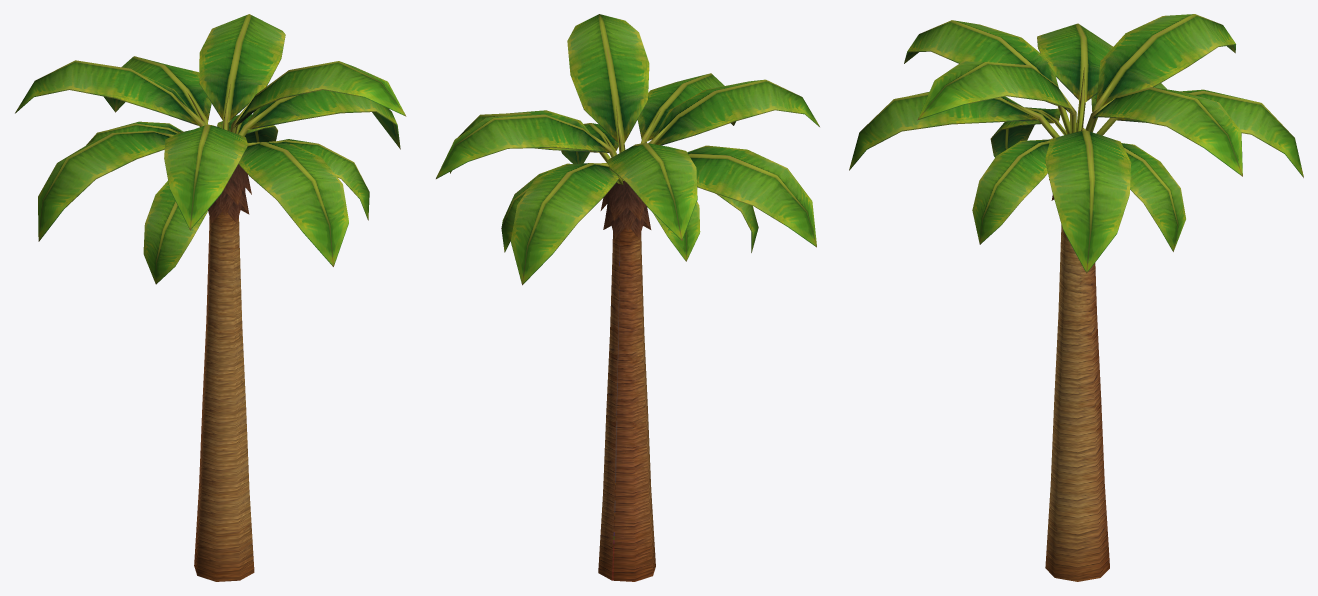
File: PalmTree_01.FBX
The picture shows the model from 3 angles, left to right: view 1: azimuth 30°, elevation 25°; view 2: azimuth 150°, elevation 25°; view 3: azimuth 270°, elevation 25°; orthographic projection. The views are drawn at different scales.
Parts seen in each view (by area): view 1: PalmTree_01; view 2: PalmTree_01; view 3: PalmTree_01.
Part boxes in pixels (x1=…): PalmTree_01: x1=15, y1=14, x2=406, y2=581; PalmTree_01: x1=436, y1=14, x2=819, y2=581; PalmTree_01: x1=849, y1=14, x2=1303, y2=581.
Bounding box in the file's own units: 2.96 × 3.02 × 3.97.
